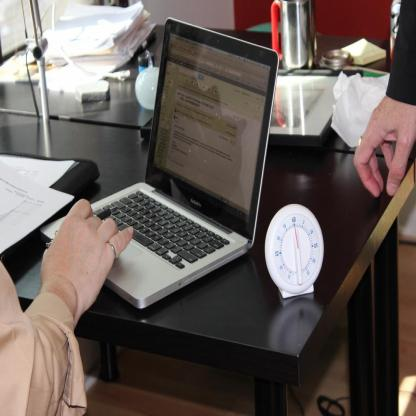board: (40, 15, 280, 310)
